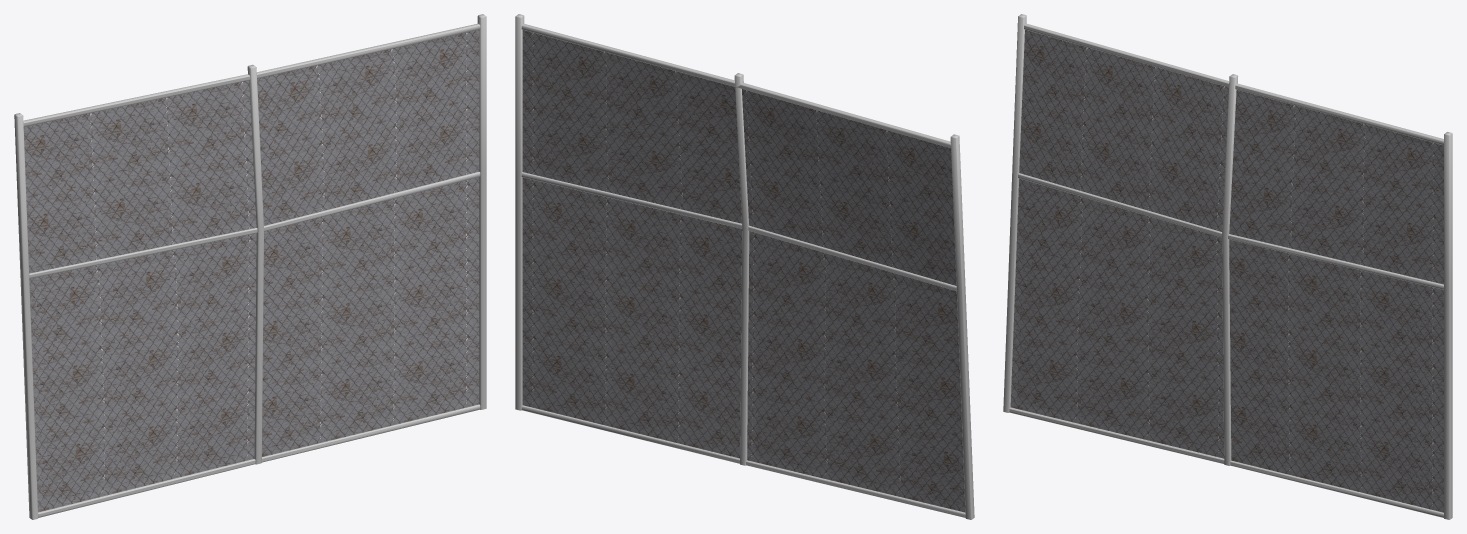
Rendered from ChainFence01_5.FBX.
3 renders of one model, left to right at view 1: azimuth 30°, elevation 25°; view 2: azimuth 150°, elevation 25°; view 3: azimuth 330°, elevation 25°, orthographic. The views are drawn at different scales.
Parts seen in each view (by area): view 1: ChainFence01_5; view 2: ChainFence01_5; view 3: ChainFence01_5.
Part boxes in pixels (x1,y1,x2,y2): ChainFence01_5: (14,14,486,519); ChainFence01_5: (515,14,974,519); ChainFence01_5: (1003,14,1452,519).
Size of the model in its own units: 492 by 406 by 37.42.
